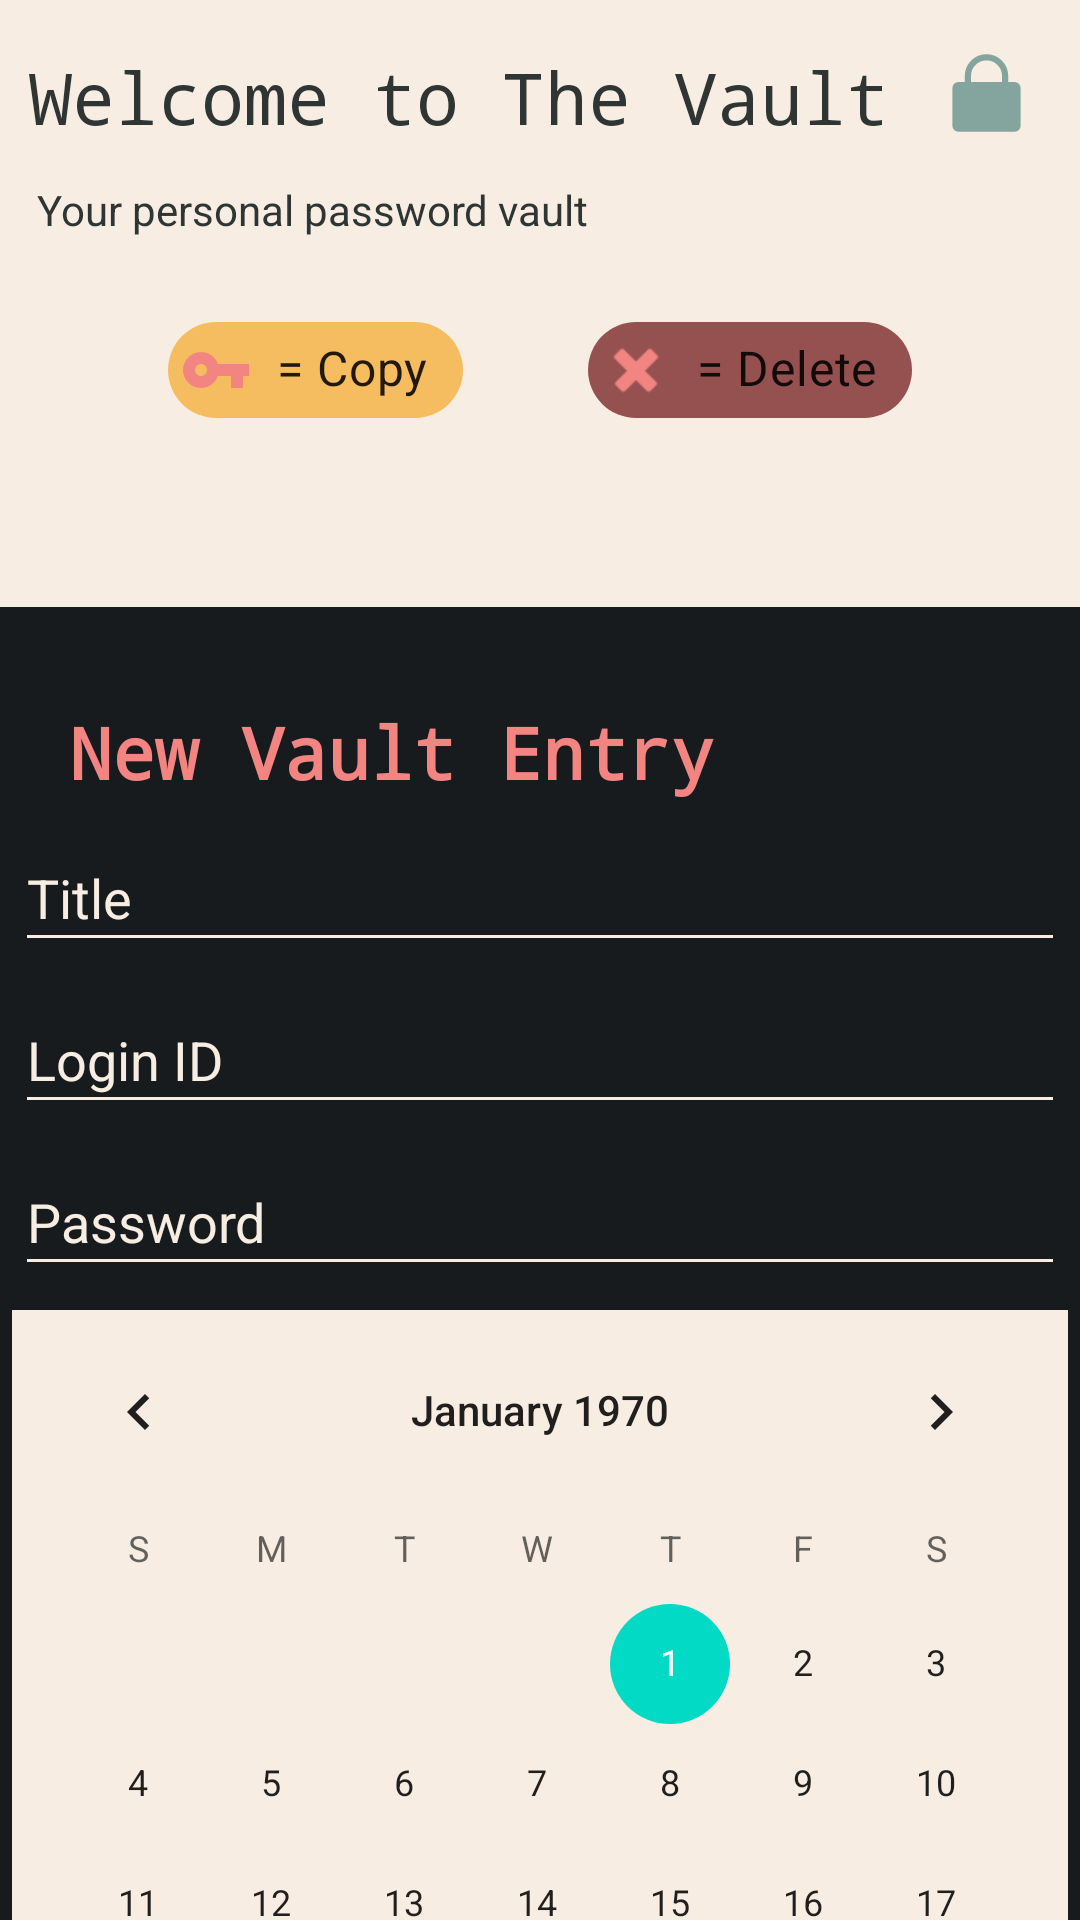

Icons on this 1080 × 1920 Android screen, each with the point to tap as point (x, y):
lock: point (986, 93)
